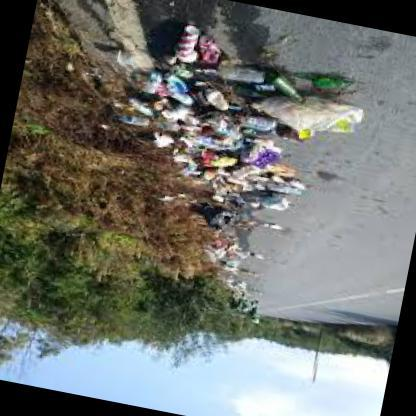Garbage: (100, 0, 325, 213), (145, 17, 375, 150), (197, 172, 272, 259)
